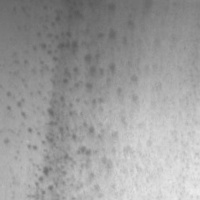pitted_surface: (4, 0, 144, 200)
